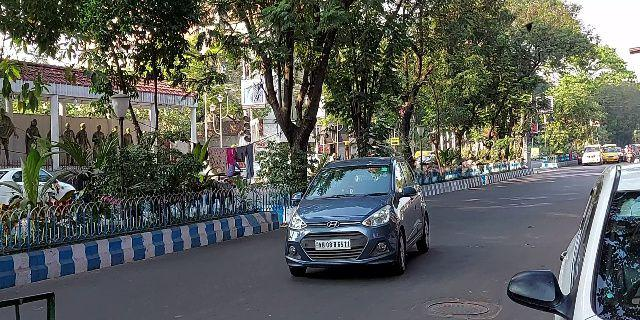Car: (502, 159, 640, 320), (279, 153, 428, 280)
